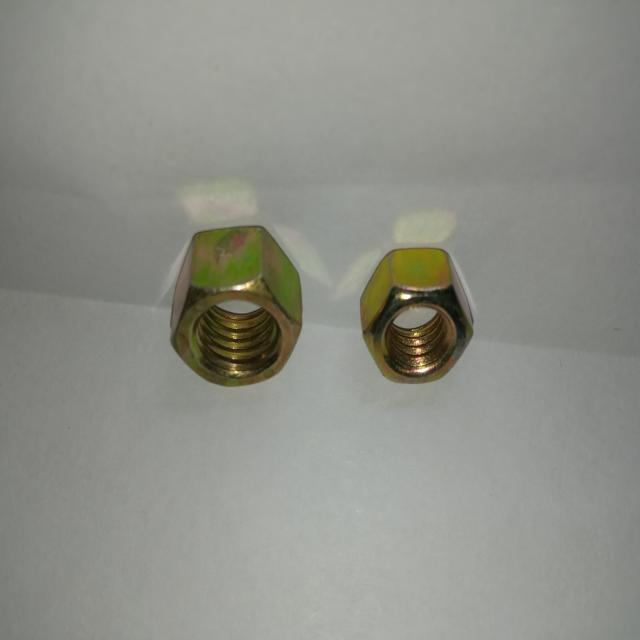m10: (171, 225, 296, 391)
m8: (359, 246, 472, 387)
